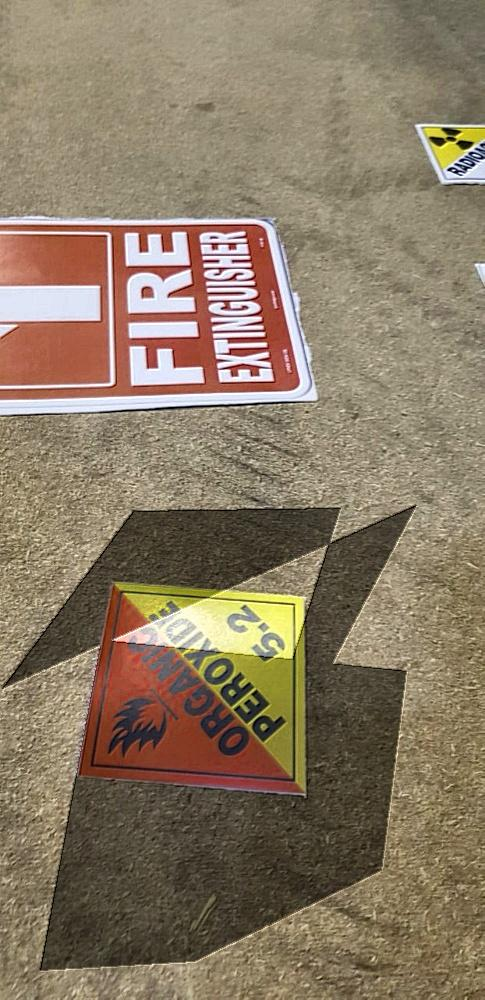organic-peroxide: (77, 581, 310, 799)
radioactive: (410, 123, 485, 182)
